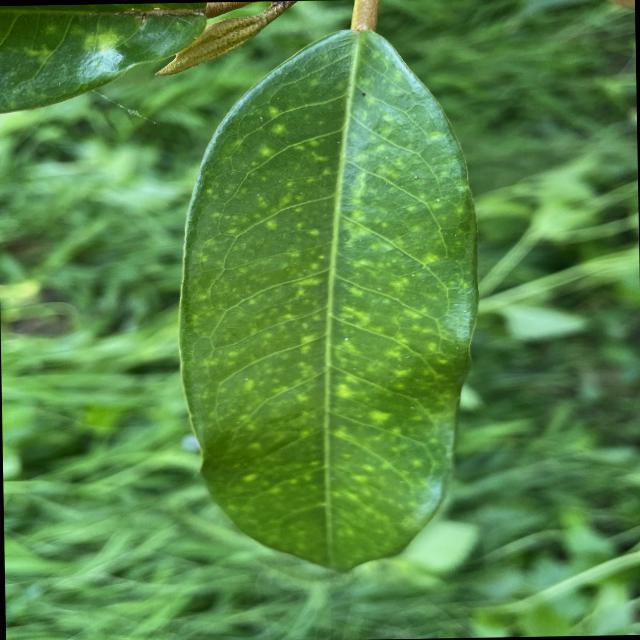Leaf Spot: (158, 18, 500, 579)
